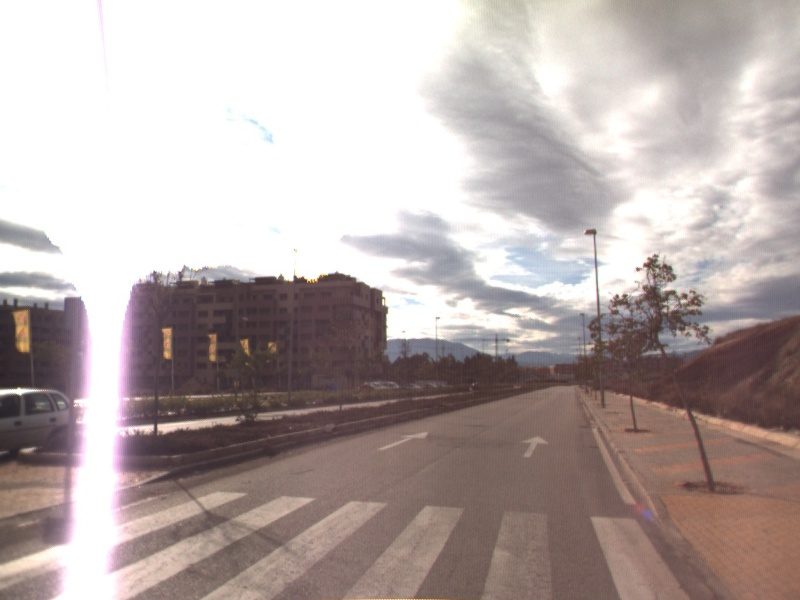STRAIGHT: (375, 429, 431, 452), (518, 434, 551, 459)
